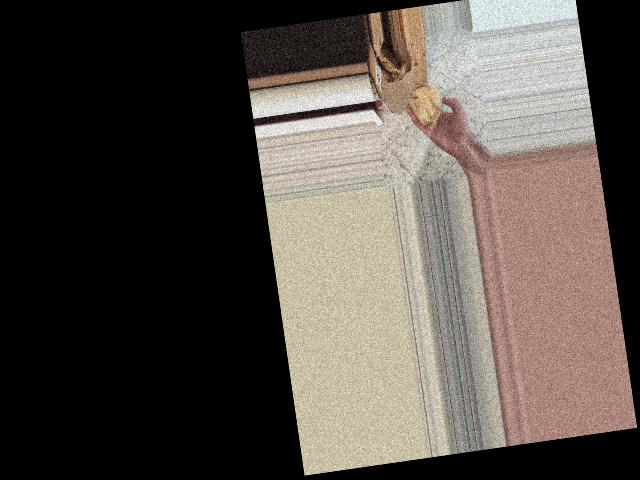onion: (405, 78, 448, 134)
